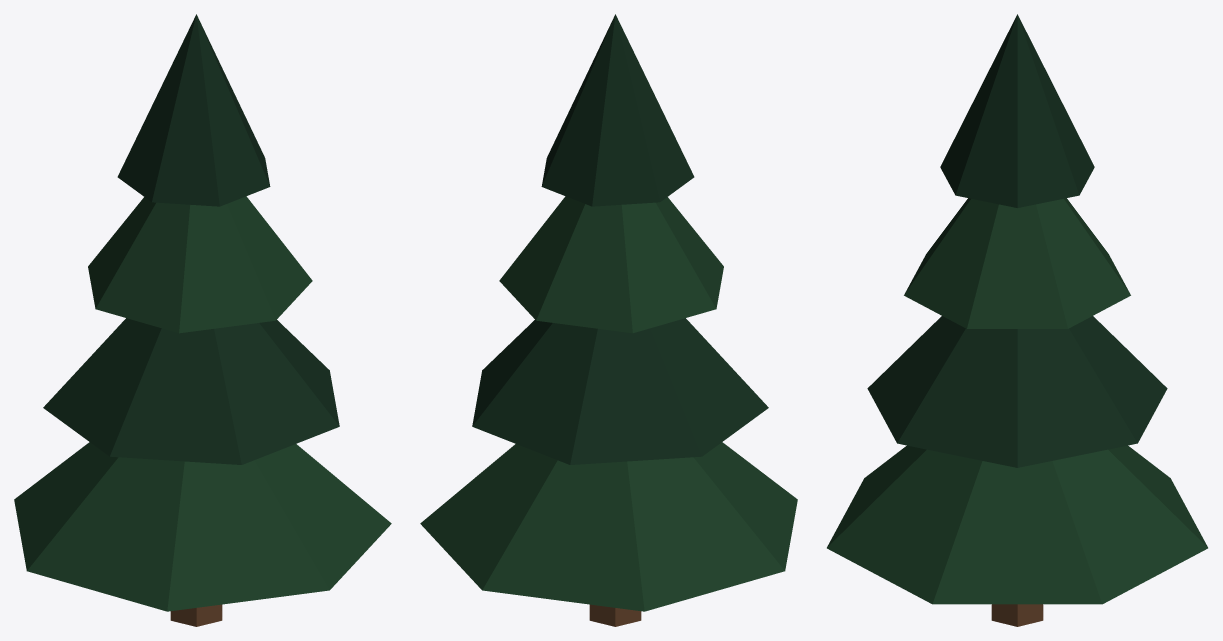
File: pine.glb
3 views of the same model, side by side, from view 1: azimuth 30°, elevation 25°; view 2: azimuth 150°, elevation 25°; view 3: azimuth 270°, elevation 25° (orthographic).
Visible parts, largest first — view 1: pine2; view 2: pine2; view 3: pine2.
Part boxes in pixels (x1,y1,x2,y2): pine2: (14, 14, 391, 626); pine2: (420, 14, 797, 626); pine2: (827, 14, 1207, 626).
Bounding box in the file's own units: 3.99 × 7.1 × 4.09.
